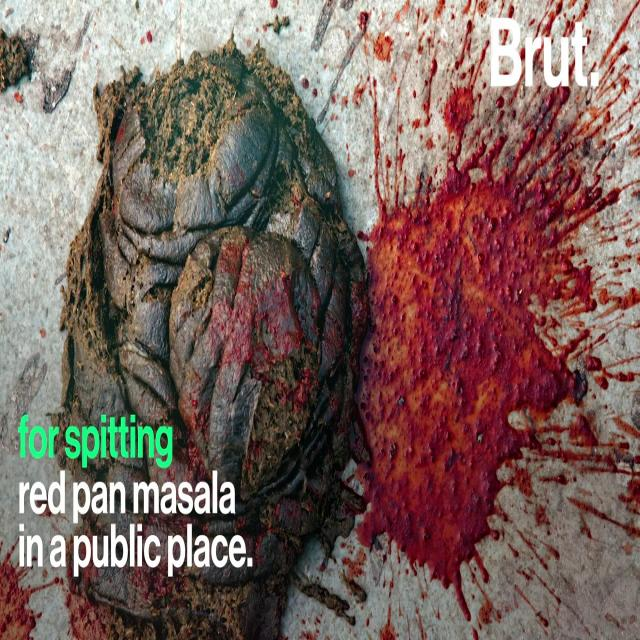spit: (401, 110, 595, 598)
